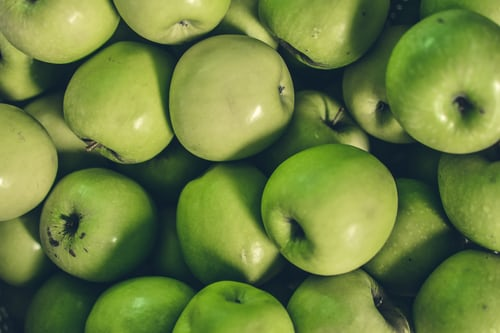apple: (260, 145, 401, 276), (379, 8, 500, 157), (167, 34, 298, 162), (172, 159, 292, 290), (62, 35, 175, 166), (37, 167, 162, 285), (400, 245, 500, 333), (285, 268, 416, 333)
